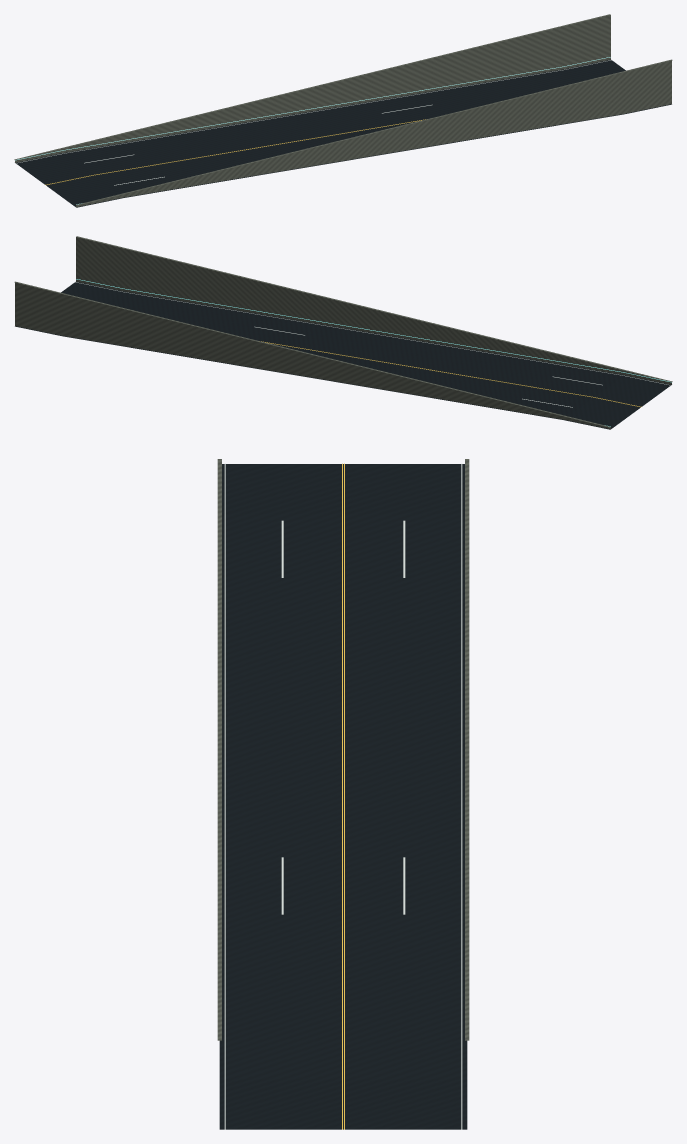
File: underpass_ramp_4lane_80m_LOD1.glb
3 views of the same model, one above another, from view 1: azimuth 30°, elevation 25°; view 2: azimuth 150°, elevation 25°; view 3: azimuth 270°, elevation 25° (orthographic). The views are drawn at different scales.
Visible parts, largest first — view 1: underpass_ramp_4lane_80m__retaining_walls.001, underpass_ramp_4lane_80m__channel.001; view 2: underpass_ramp_4lane_80m__retaining_walls.001, underpass_ramp_4lane_80m__channel.001; view 3: underpass_ramp_4lane_80m__channel.001, underpass_ramp_4lane_80m__retaining_walls.001.
Boxes of the visible parts, box(x1,y1,x2,y2) form: underpass_ramp_4lane_80m__retaining_walls.001: box(14, 14, 672, 207); underpass_ramp_4lane_80m__channel.001: box(15, 59, 671, 207); underpass_ramp_4lane_80m__retaining_walls.001: box(14, 236, 672, 429); underpass_ramp_4lane_80m__channel.001: box(15, 281, 671, 429); underpass_ramp_4lane_80m__channel.001: box(219, 463, 467, 1129); underpass_ramp_4lane_80m__retaining_walls.001: box(217, 459, 469, 1040).
Size of the model in its own units: 80 by 5.76 by 14.64.
Materials: 6 (3 with a texture image).
